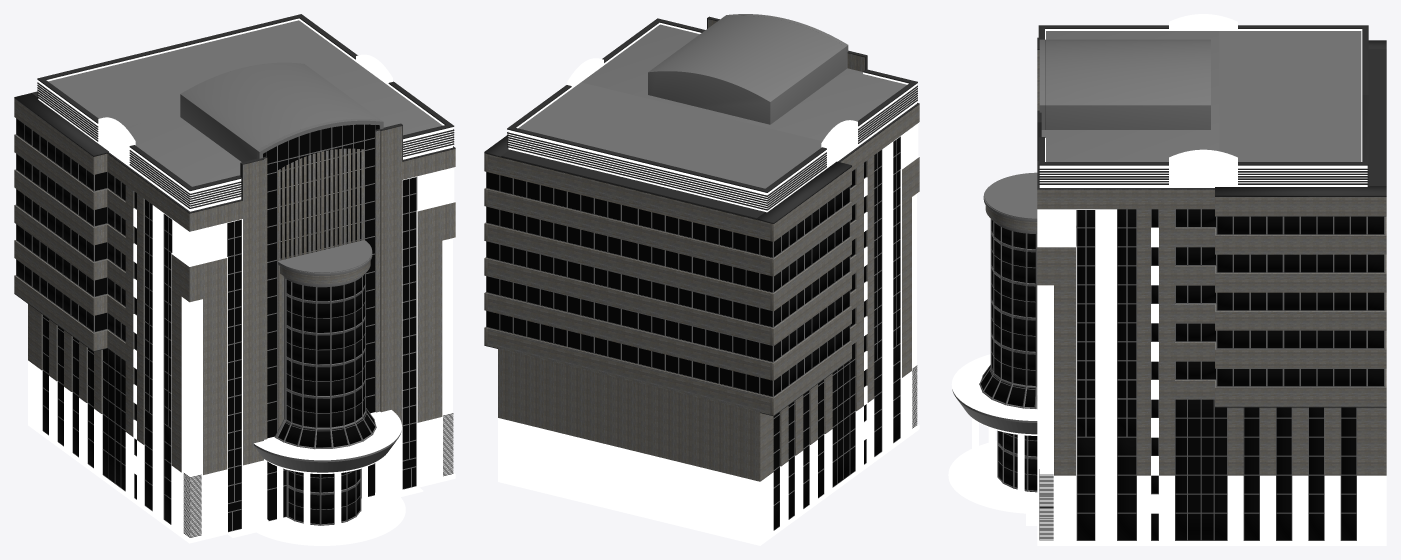
Rendered from office_building_compressed.glb.
3 renders of one model, left to right at view 1: azimuth 30°, elevation 25°; view 2: azimuth 150°, elevation 25°; view 3: azimuth 270°, elevation 25°, orthographic. The views are drawn at different scales.
Visible parts, largest first — view 1: wall_33, roof.001_26, wall.003_36, glass.004_11, glass.003_10, roof_25, glass_7, glass.001_8, glass.002_9, element_5, wall.001_34, profiles.009_24 (+20 smaller); view 2: wall_33, wall.005_38, glass.001_8, wall.003_36, roof.001_26, roof_25, glass_7, profiles.001_16, wall.002_35, lines_12, profiles.002_17, profile_14 (+7 smaller); view 3: wall_33, glass_7, roof.001_26, glass.001_8, wall.003_36, roof_25, glass.004_11, profiles.002_17, wall.002_35, profiles.009_24, profiles.001_16, wall.001_34 (+14 smaller).
Part boxes in pixels (box(x1,y1,x2,y2)): wall_33: box(14, 99, 455, 474); roof.001_26: box(48, 20, 442, 186); wall.003_36: box(28, 205, 442, 535); glass.004_11: box(278, 274, 374, 524); glass.003_10: box(263, 124, 379, 520); roof_25: box(180, 62, 380, 161); glass_7: box(43, 192, 171, 523); glass.001_8: box(16, 119, 125, 341); glass.002_9: box(228, 177, 415, 531); element_5: box(277, 148, 364, 260); wall.001_34: box(184, 238, 452, 537); profiles.009_24: box(274, 273, 376, 525); wall_33: box(484, 19, 919, 481); wall.005_38: box(487, 154, 770, 414); glass.001_8: box(487, 169, 855, 396); wall.003_36: box(498, 142, 911, 541); roof.001_26: box(518, 24, 906, 188); roof_25: box(648, 16, 845, 124); glass_7: box(773, 137, 900, 529); profiles.001_16: box(486, 169, 855, 397); wall.002_35: box(508, 22, 916, 212); lines_12: box(507, 85, 917, 210); profiles.002_17: box(773, 136, 900, 530); profile_14: box(507, 18, 917, 192); wall_33: box(1037, 50, 1386, 475); glass_7: box(1077, 209, 1356, 540); roof.001_26: box(1041, 31, 1361, 161); glass.001_8: box(1176, 209, 1383, 386); wall.003_36: box(1054, 209, 1386, 541); roof_25: box(1045, 39, 1210, 129); glass.004_11: box(980, 219, 1037, 490); profiles.002_17: box(1076, 209, 1356, 540); wall.002_35: box(1039, 29, 1367, 187); profiles.009_24: box(979, 218, 1037, 492); profiles.001_16: box(1175, 209, 1385, 387); wall.001_34: box(1039, 286, 1053, 539).
Size of the model in its own units: 34 by 42.56 by 40.68.
Materials: 7 (2 with a texture image).
